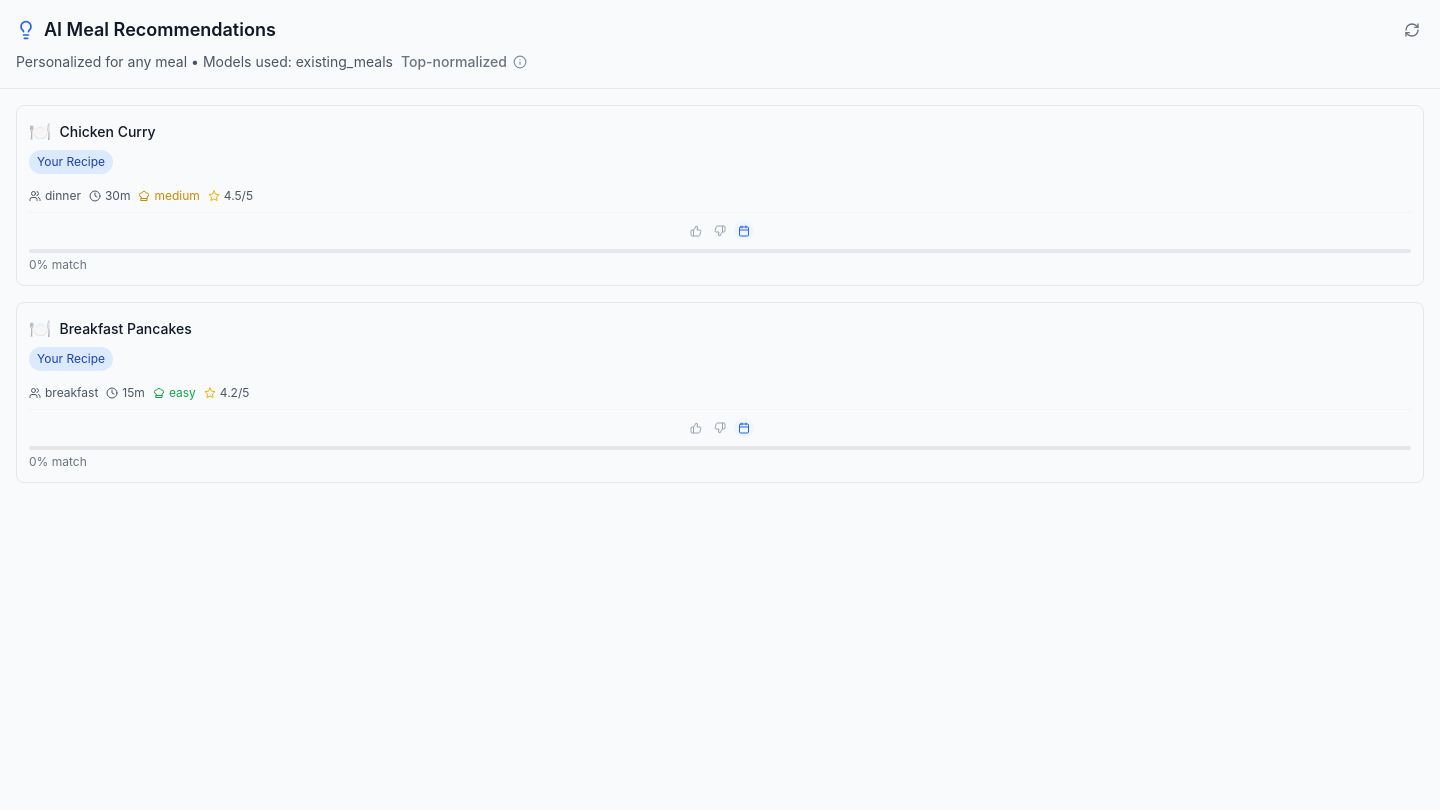
Test: MealRecommendations › User Interactions › handles add to meal plan button click
Expected: the heading "Chicken Curry" is shown, top-left (60, 123), bottom-right (156, 140)
Click the 1st button titled "Add to meal plan".
click(744, 231)  # box top-left (734, 221), bottom-right (754, 241)
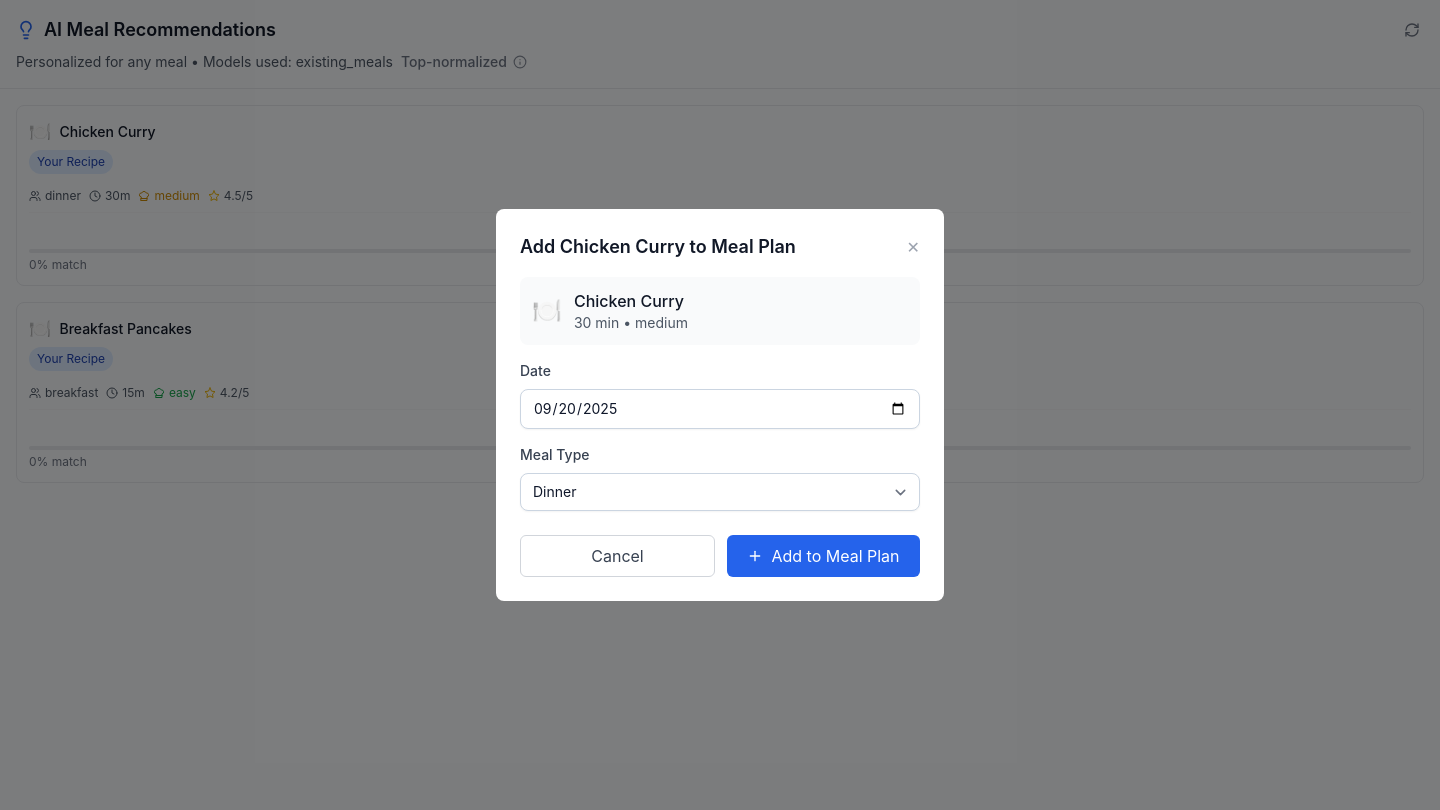
Expected: the heading "Add Chicken Curry to Meal Plan" is shown, top-left (520, 233), bottom-right (796, 261)
